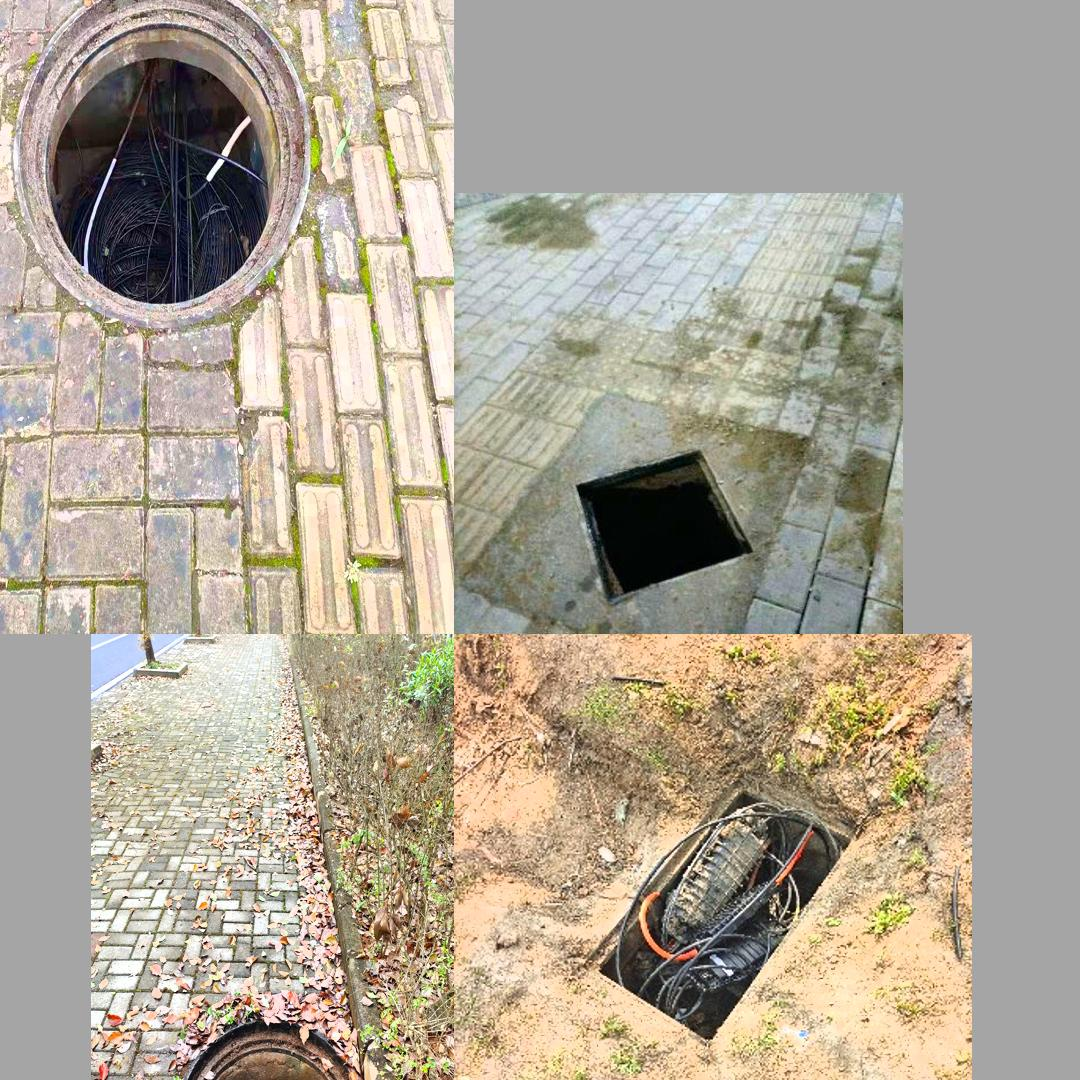lose: (12, 0, 309, 335), (582, 781, 866, 1045), (566, 448, 808, 602), (177, 1013, 361, 1080)
